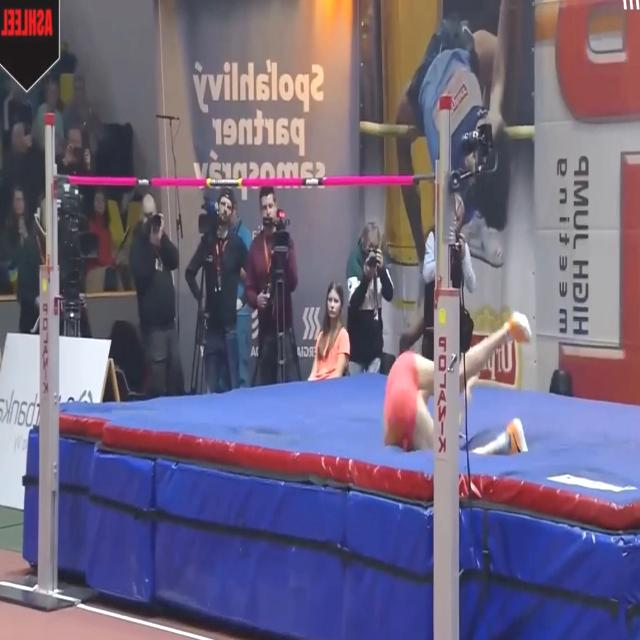land: (382, 312, 530, 446)
